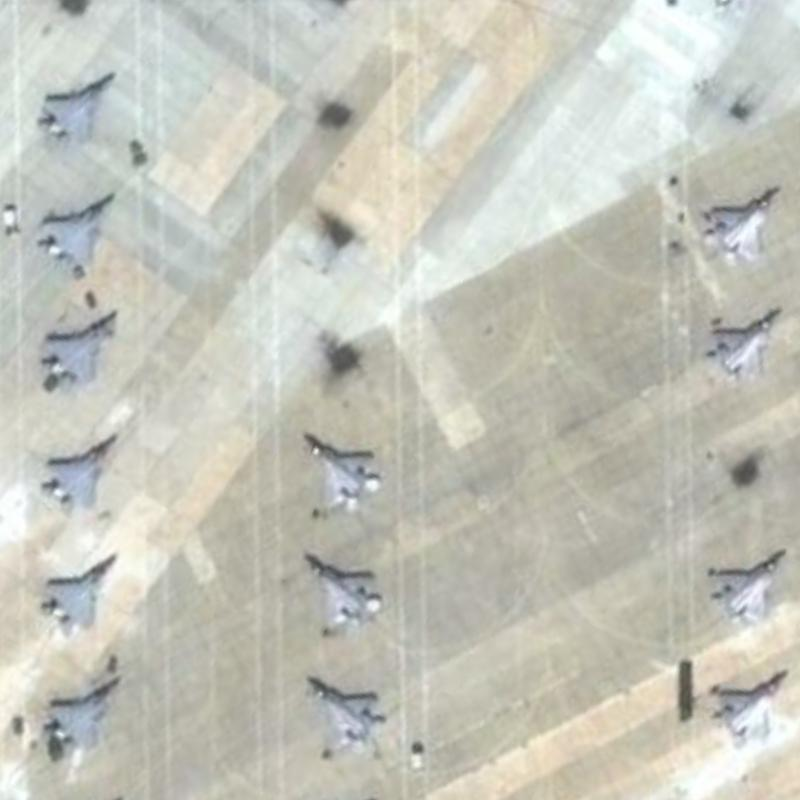A13: (33, 549, 121, 640), (36, 427, 121, 517), (36, 673, 123, 757), (39, 189, 114, 275), (37, 306, 118, 385), (40, 68, 116, 147)
A15: (295, 422, 386, 511), (702, 545, 790, 634), (707, 666, 793, 749), (304, 669, 388, 753), (299, 547, 385, 627), (703, 183, 782, 270), (705, 303, 787, 385)
